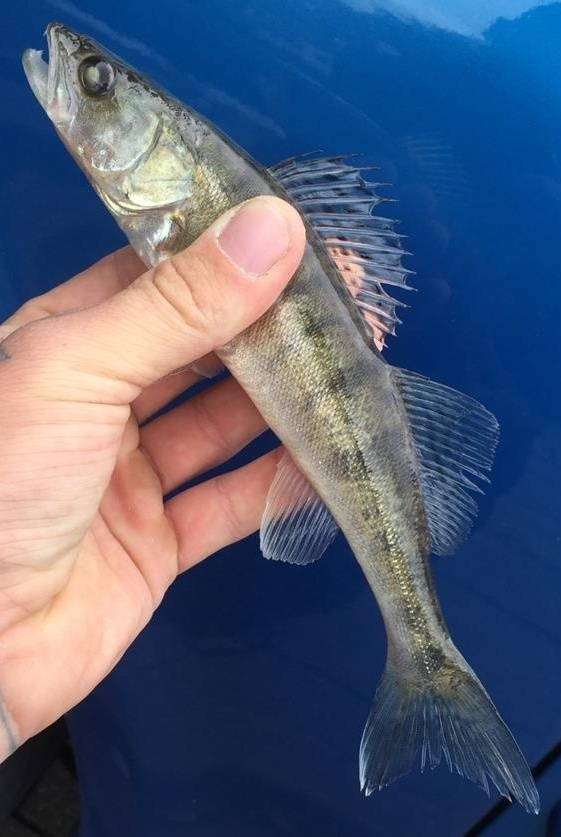Sander lucioperca: (20, 20, 541, 817)
